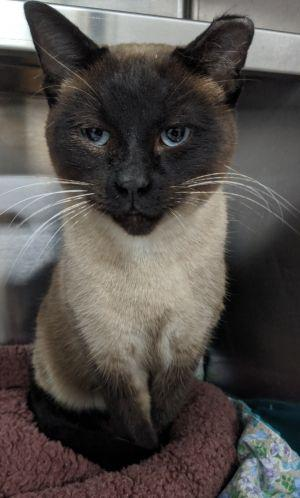siamese: (8, 1, 270, 249)
